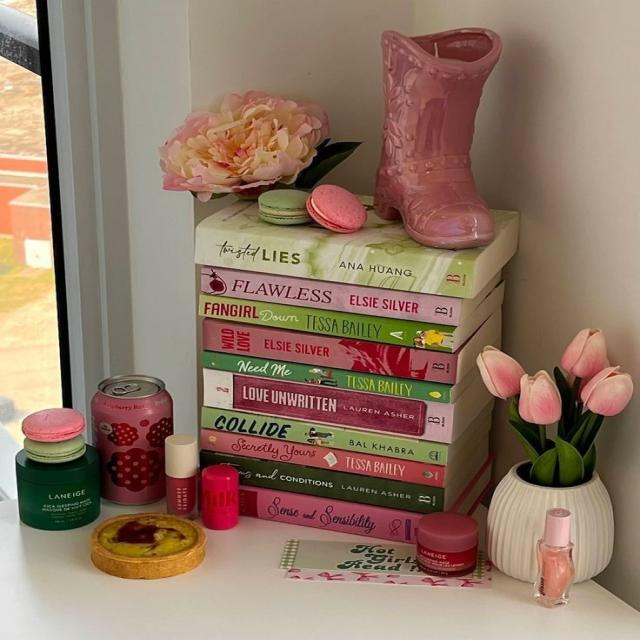book: (196, 213, 518, 298), (203, 368, 454, 443), (202, 266, 478, 326), (205, 321, 458, 384), (200, 453, 444, 515), (199, 294, 459, 352), (201, 428, 446, 488), (201, 406, 448, 465), (203, 354, 451, 404), (240, 489, 419, 543)
flowers: (478, 327, 638, 516), (158, 86, 350, 192)
